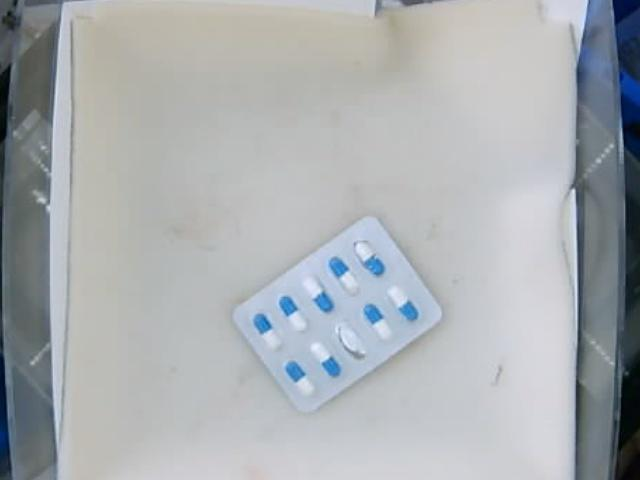Medicine: (231, 215, 442, 411)
